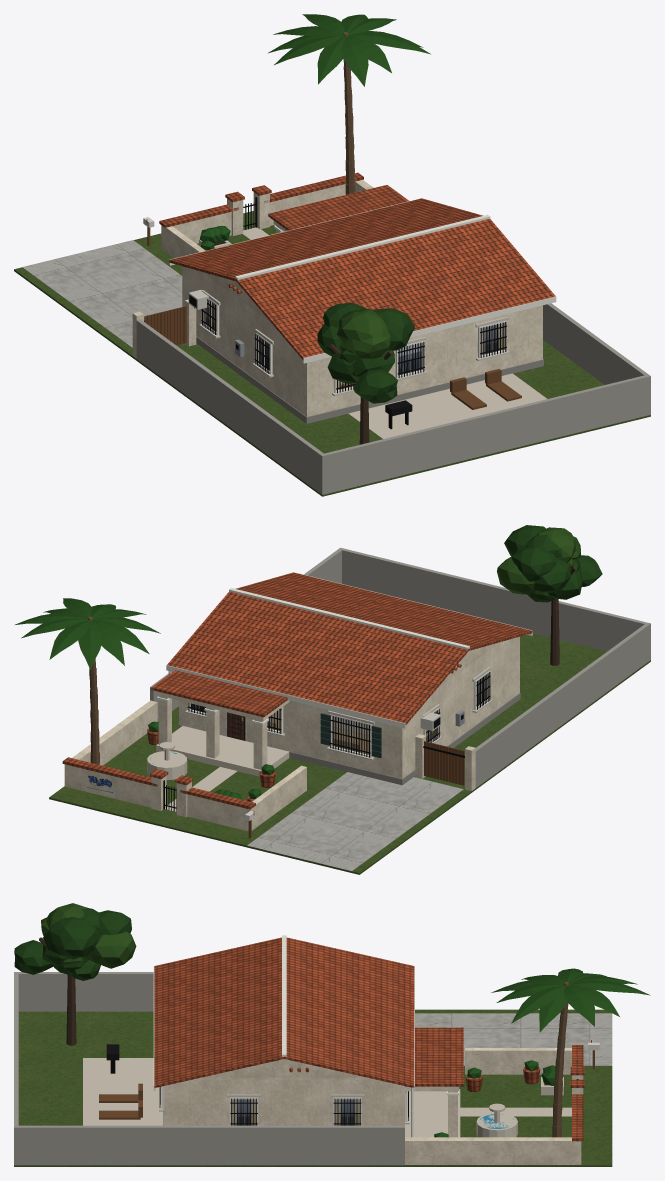
The model's file is HouseD_S.glb.
3 renders of one model, top to bottom at view 1: azimuth 30°, elevation 25°; view 2: azimuth 150°, elevation 25°; view 3: azimuth 270°, elevation 25°, orthographic. The views are drawn at different scales.
Visible parts, largest first — view 1: Tiles, Block, Walls, Lawn, Concrete, Palm, Stone, Leaf, Trim, Wood, Foundation, WinIron (+5 smaller); view 2: Tiles, Walls, Block, Lawn, Concrete, Palm, Stone, Leaf, Trim, WinIron, LeafB, Wood (+8 smaller); view 3: Tiles, Block, Lawn, Walls, Stone, Concrete, Leaf, Palm, LeafB, GlassF, Trunk, Trim (+5 smaller).
Boxes of the visible parts, x1,y1,x2,y2 form: Tiles: [159, 172, 555, 359]; Block: [136, 303, 650, 494]; Walls: [132, 179, 542, 416]; Lawn: [14, 211, 650, 496]; Concrete: [22, 240, 182, 347]; Palm: [268, 14, 430, 86]; Stone: [199, 227, 546, 438]; Leaf: [317, 303, 414, 403]; Trim: [169, 198, 556, 363]; Wood: [144, 227, 521, 409]; Foundation: [196, 336, 543, 423]; WinIron: [201, 299, 506, 393]; Tiles: [62, 572, 532, 809]; Walls: [64, 636, 519, 831]; Block: [150, 547, 650, 787]; Lawn: [49, 633, 650, 874]; Concrete: [247, 772, 463, 871]; Palm: [15, 598, 160, 669]; Stone: [147, 726, 289, 811]; Leaf: [504, 525, 602, 602]; Trim: [157, 572, 532, 728]; WinIron: [187, 672, 490, 757]; LeafB: [497, 527, 580, 595]; Wood: [248, 741, 464, 838]; Tiles: [154, 937, 584, 1141]; Block: [14, 972, 404, 1165]; Lawn: [14, 1009, 612, 1166]; Walls: [163, 1048, 583, 1164]; Stone: [83, 1058, 571, 1137]; Concrete: [415, 1013, 612, 1065]; Leaf: [14, 908, 131, 980]; Palm: [491, 968, 650, 1032]; LeafB: [41, 903, 136, 968]; GlassF: [231, 1099, 359, 1125]; Trunk: [552, 982, 568, 1137]; Trim: [153, 935, 459, 1095].
Size of the model in its own units: 65.65 by 30.12 by 99.66.
35 materials, 35 textured.
